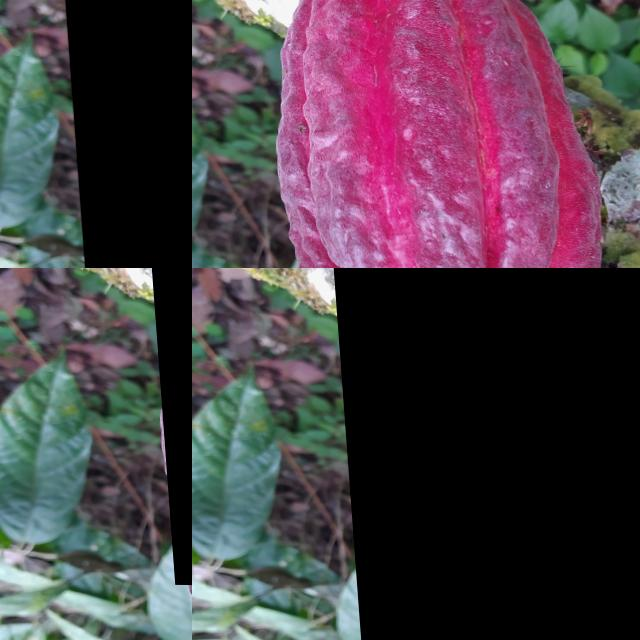Sana: (328, 268, 640, 640), (59, 0, 192, 268), (144, 268, 192, 586), (192, 17, 223, 106), (256, 0, 290, 41), (243, 3, 258, 36), (211, 48, 235, 68), (227, 46, 245, 71)
